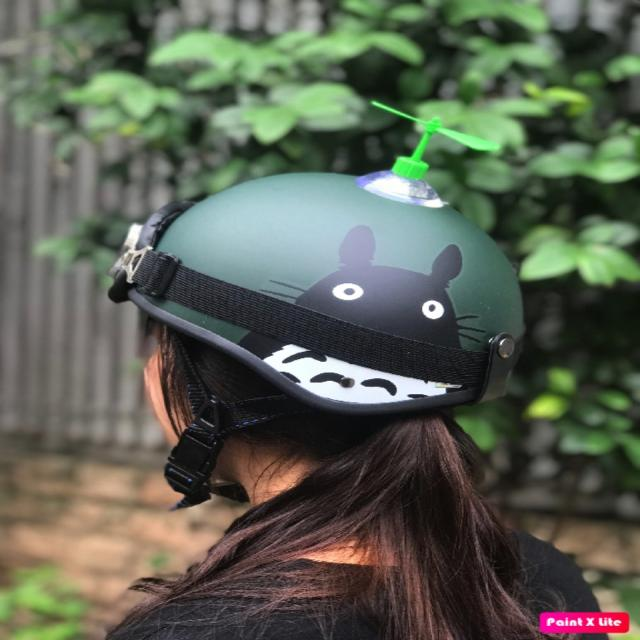1-2-helmet: (100, 171, 523, 418)
